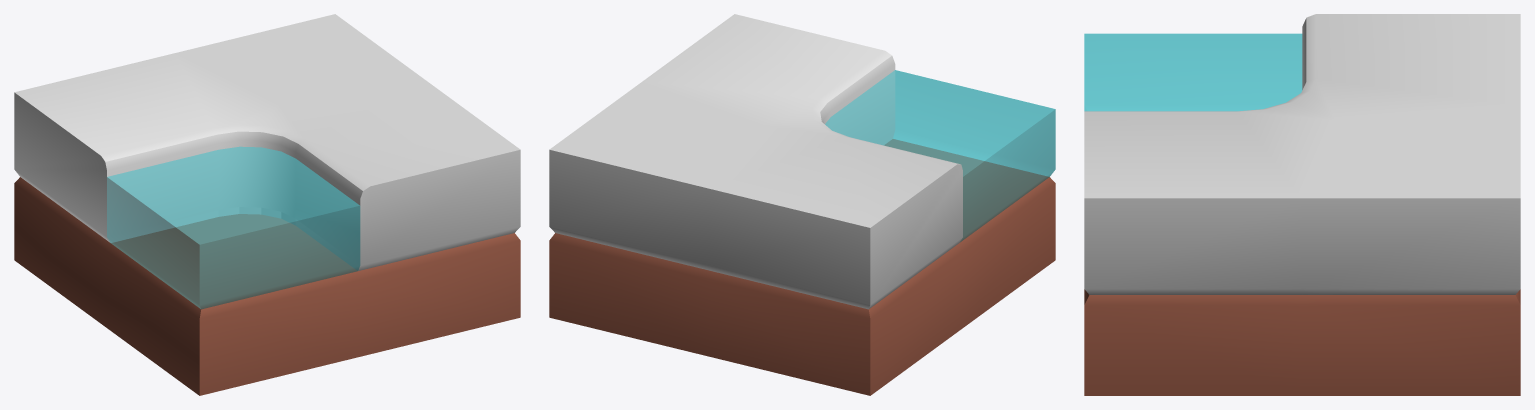
Rendered from square_snow_waterInnerCorner.fbx.
3 views of the same model, side by side, from view 1: azimuth 30°, elevation 25°; view 2: azimuth 150°, elevation 25°; view 3: azimuth 270°, elevation 25° (orthographic). The views are drawn at different scales.
Visible parts, largest first — view 1: square_snow_waterInnerCorner; view 2: square_snow_waterInnerCorner; view 3: square_snow_waterInnerCorner.
Boxes of the visible parts, box(x1,y1,x2,y2) form: square_snow_waterInnerCorner: box(14, 14, 520, 395); square_snow_waterInnerCorner: box(549, 14, 1055, 395); square_snow_waterInnerCorner: box(1084, 14, 1520, 395).
Size of the model in its own units: 2 by 1 by 2.
